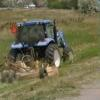Tractor: (5, 11, 76, 72)
